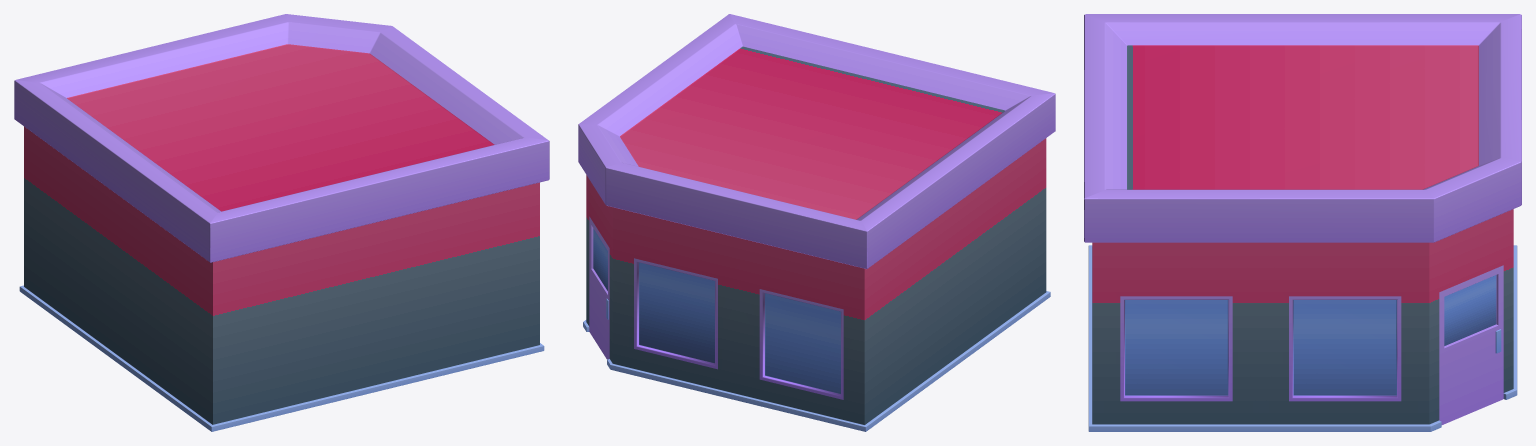
The model's file is SM_building03.fbx.
3 views of the same model, side by side, from view 1: azimuth 30°, elevation 25°; view 2: azimuth 150°, elevation 25°; view 3: azimuth 270°, elevation 25° (orthographic). The views are drawn at different scales.
Parts seen in each view (by area): view 1: SM_building03; view 2: SM_building03; view 3: SM_building03.
Part boxes in pixels (x1,y1,x2,y2): SM_building03: [14, 14, 549, 431]; SM_building03: [578, 14, 1055, 431]; SM_building03: [1084, 14, 1521, 431].
Size of the model in its own units: 623 by 370 by 623.
